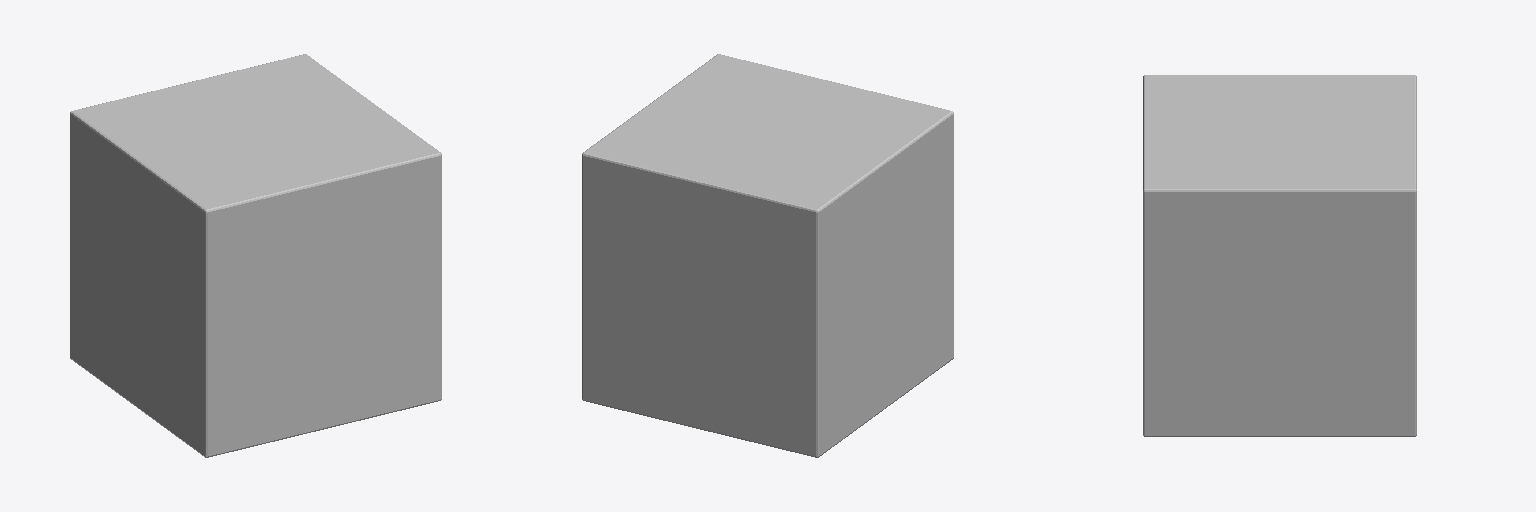
The picture shows the model from 3 angles: view 1: azimuth 30°, elevation 25°; view 2: azimuth 150°, elevation 25°; view 3: azimuth 270°, elevation 25°; orthographic projection.
Visible parts, largest first — view 1: 2In_Cube.003; view 2: 2In_Cube.003; view 3: 2In_Cube.003.
Boxes of the visible parts, <box> form: 2In_Cube.003: <box>70,54,441,457</box>; 2In_Cube.003: <box>582,54,953,457</box>; 2In_Cube.003: <box>1143,75,1416,436</box>.
Size of the model in its own units: 0.5842 by 0.5842 by 0.5842.